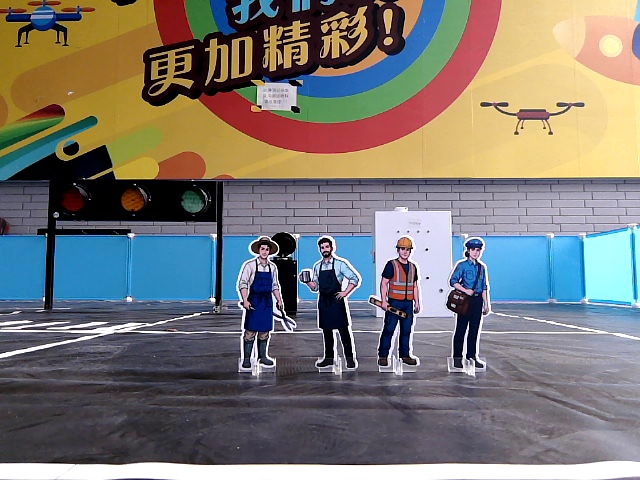community_person: (228, 231, 300, 388), (299, 231, 366, 386), (438, 231, 501, 385), (368, 232, 429, 385)
